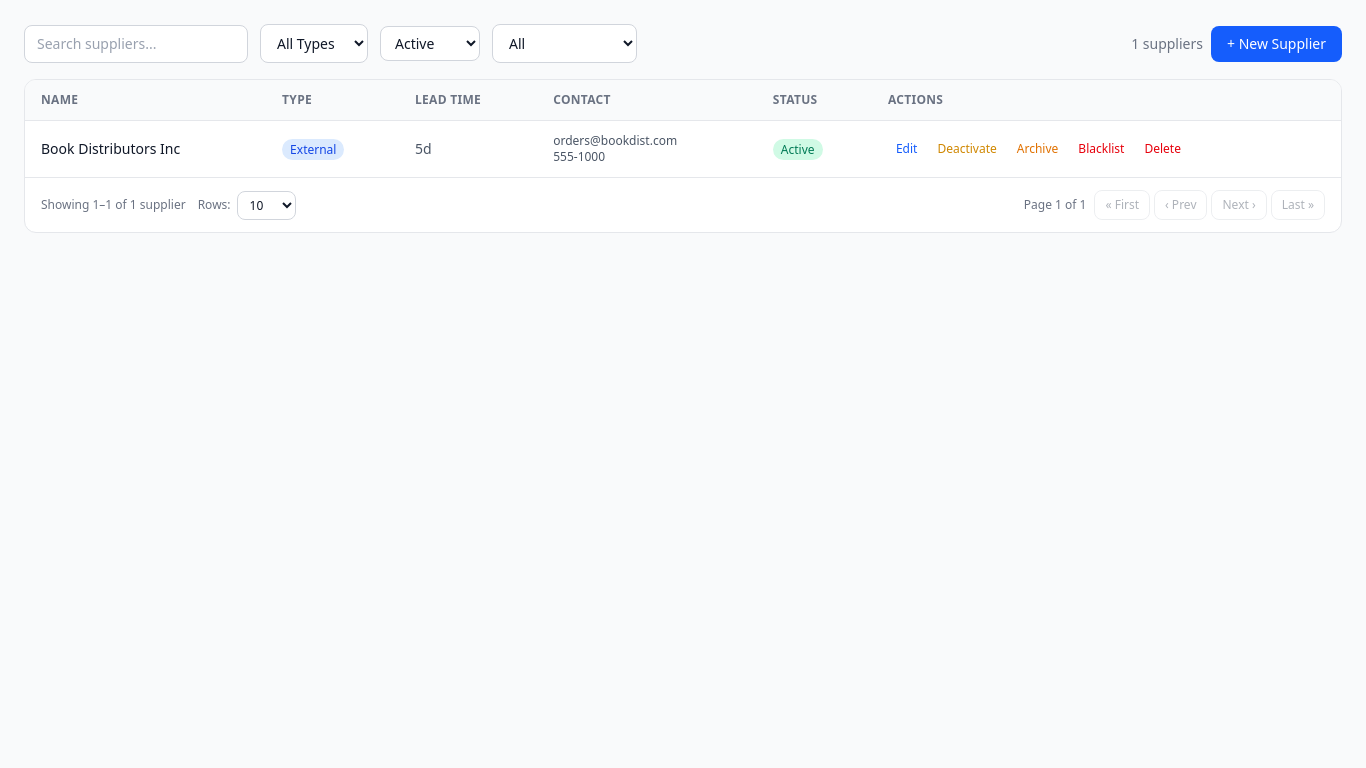
Test: Suppliers › says what is wrong and sends nothing when the form breaks the contract
expect the text "Book Distributors Inc" is shown: met, box [25, 120, 266, 177]
Click the button "+ New Supplier" at (1276, 44), box [1211, 26, 1342, 62]
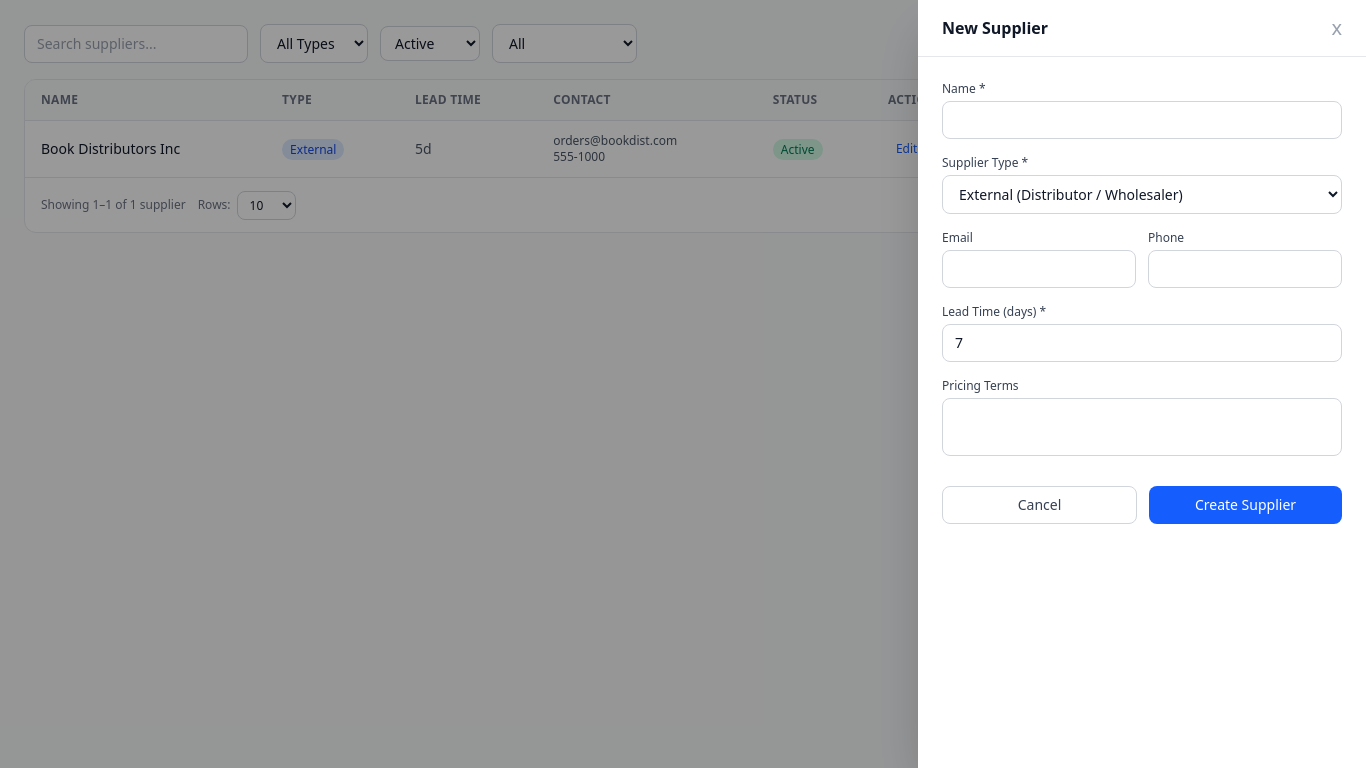
Type "not-an-email" into the field labelled "Email" at (1039, 269), box [942, 250, 1136, 288]
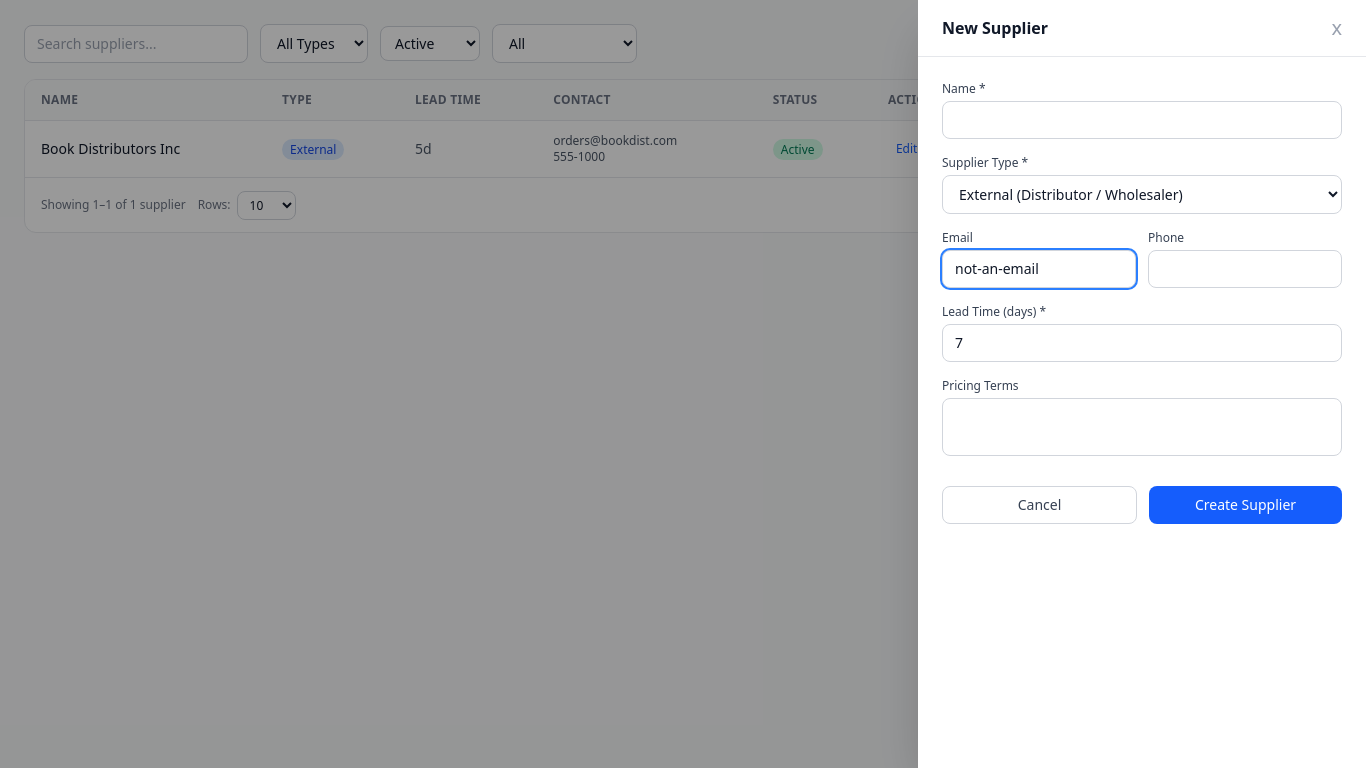
Click the button "Create Supplier" at (1246, 505), box [1149, 486, 1342, 524]
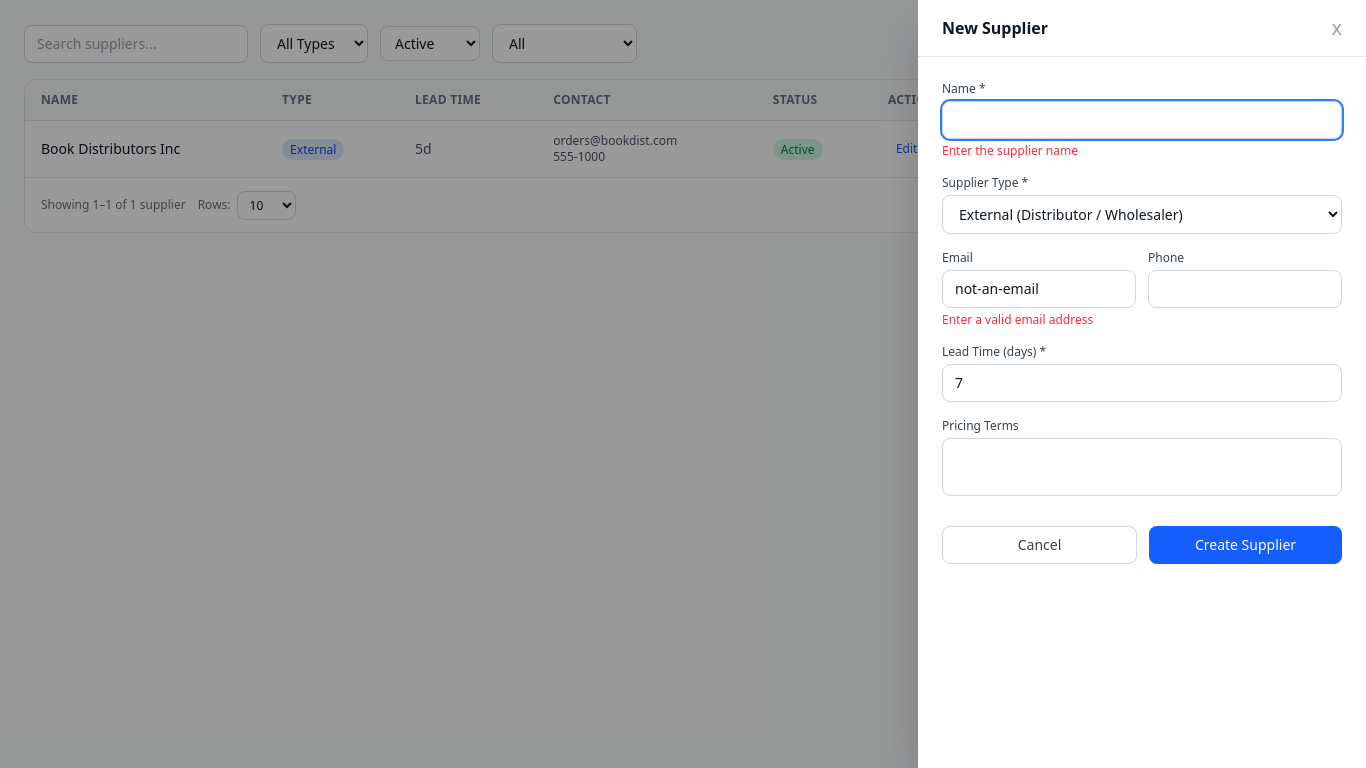
expect the text "Enter the supplier name" is shown: met, box [942, 142, 1078, 159]
expect the text "Enter a valid email address" is shown: met, box [942, 311, 1093, 328]
